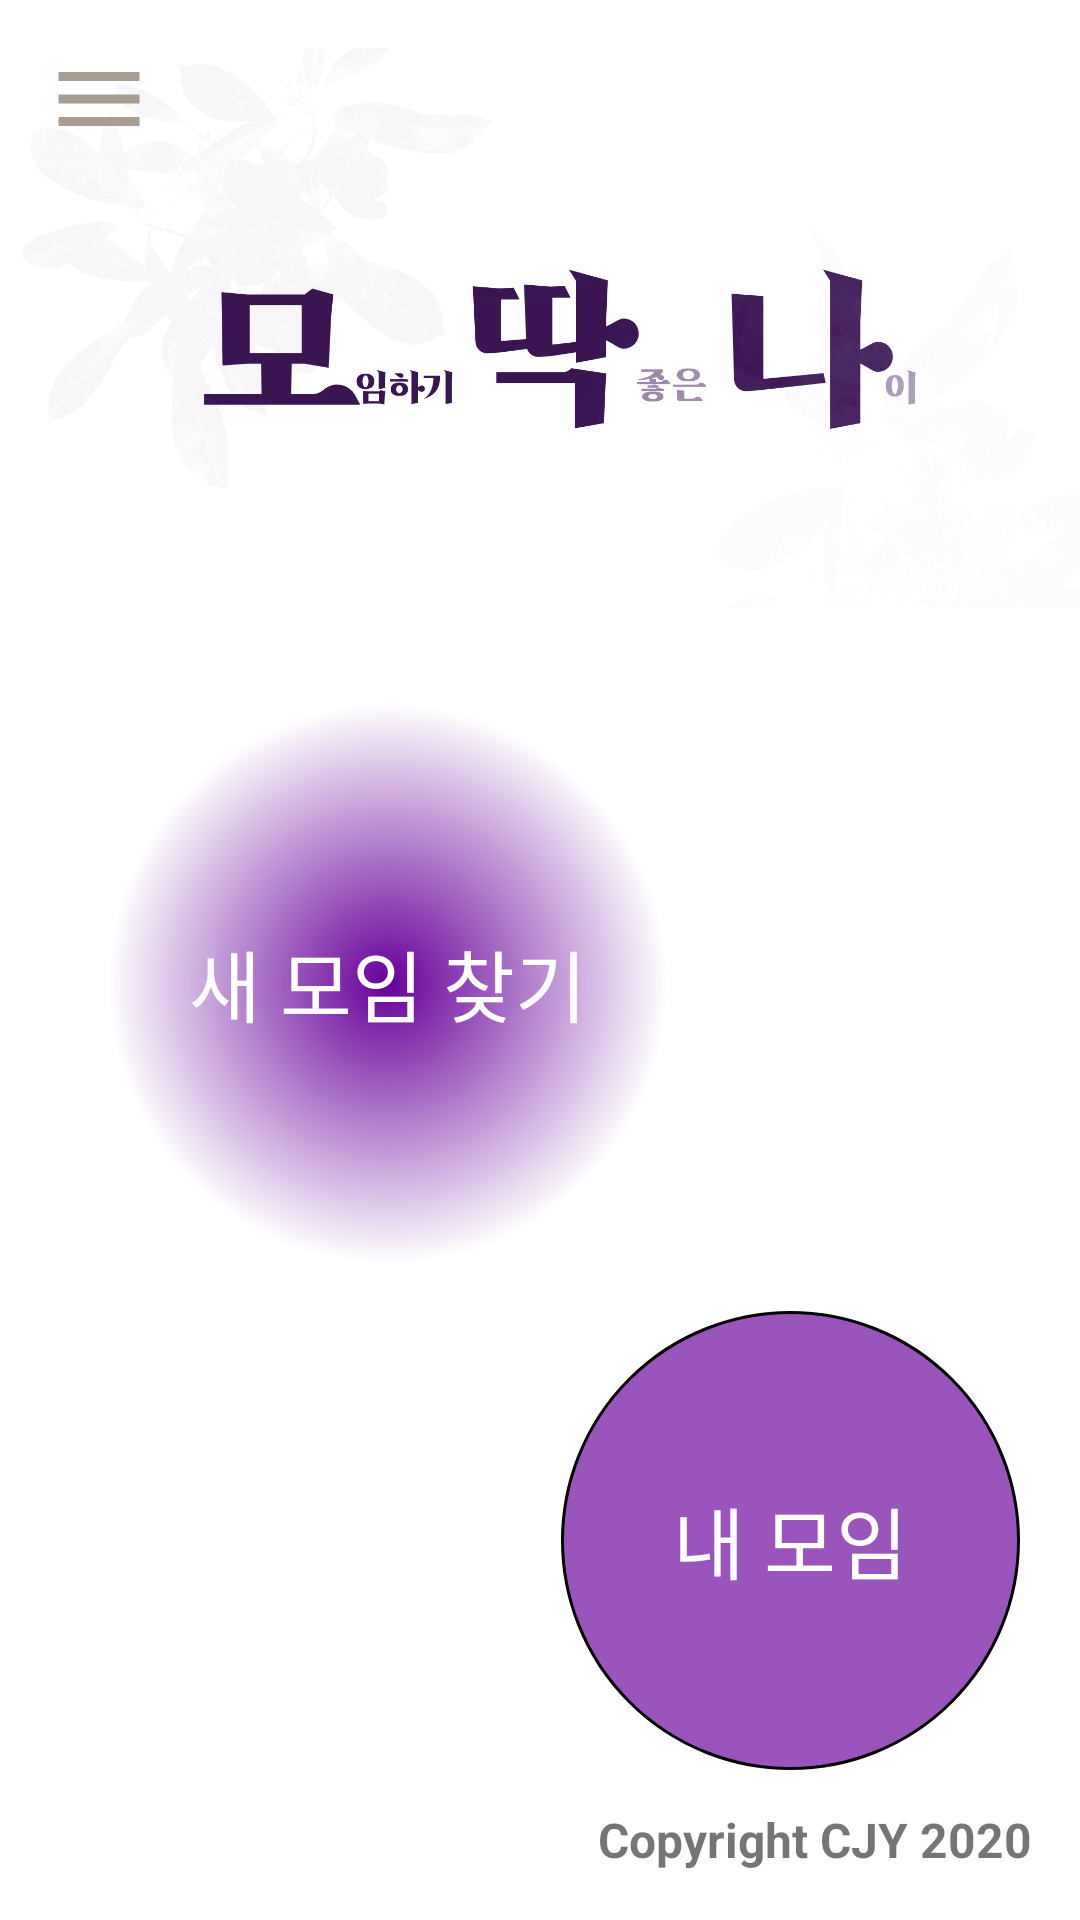

Icon click points for this 1080x1920 phone screenshot, format (x=x, y=y):
menu: (x=99, y=99)
